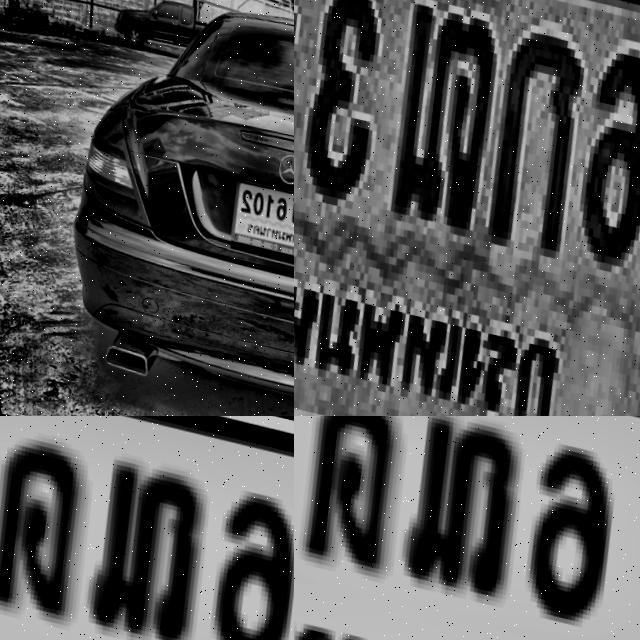license-plate: (294, 0, 640, 416), (294, 416, 640, 640), (0, 416, 294, 640), (216, 173, 294, 272)
